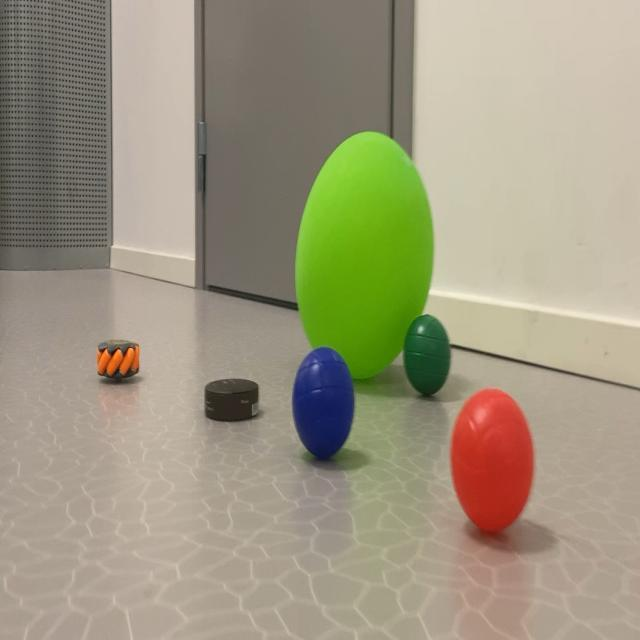blue ball: (292, 361, 360, 463)
green ball: (402, 334, 461, 408)
red ball: (446, 418, 534, 530)
